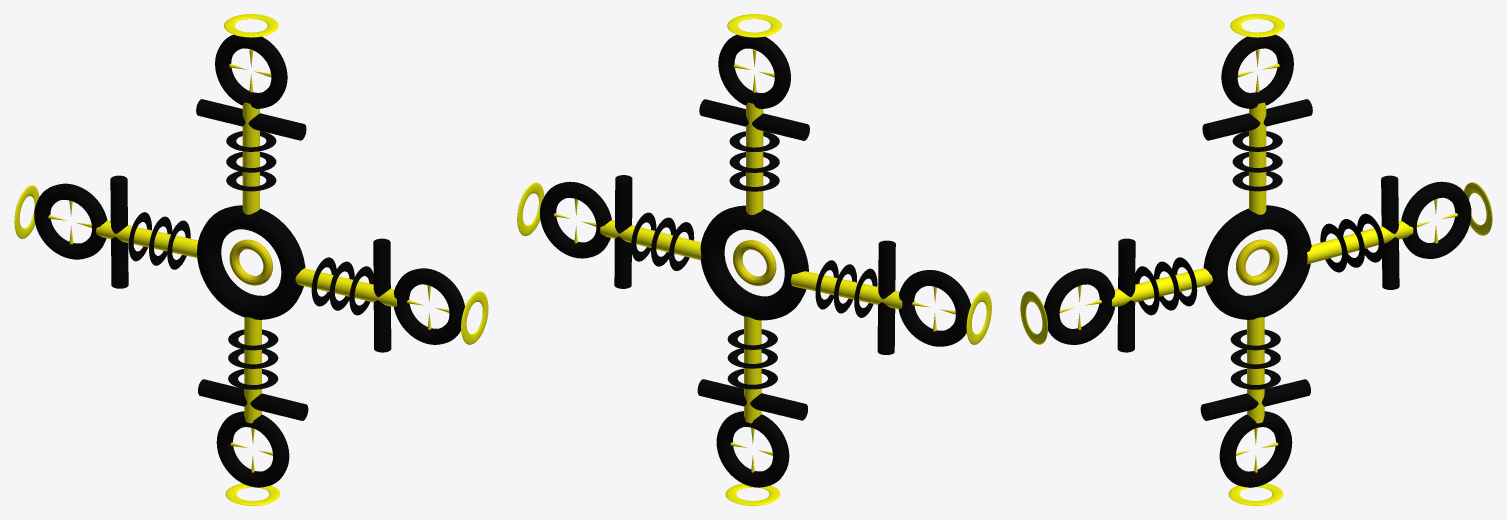
The model's file is Enemy__StunBullet.fbx.
3 views of the same model, side by side, from view 1: azimuth 30°, elevation 25°; view 2: azimuth 210°, elevation 25°; view 3: azimuth 270°, elevation 25° (orthographic).
Visible parts, largest first — view 1: トーラス.005; view 2: トーラス.005; view 3: トーラス.005.
Part boxes in pixels (x1,y1,x2,y2): トーラス.005: [14, 14, 488, 505]; トーラス.005: [517, 14, 991, 505]; トーラス.005: [1020, 14, 1492, 505].
Size of the model in its own units: 2148 by 3622 by 3298.
